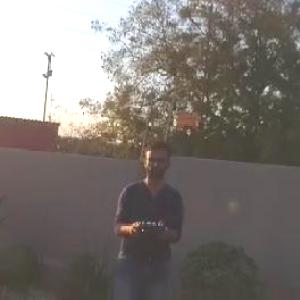follow: (111, 129, 189, 299)
